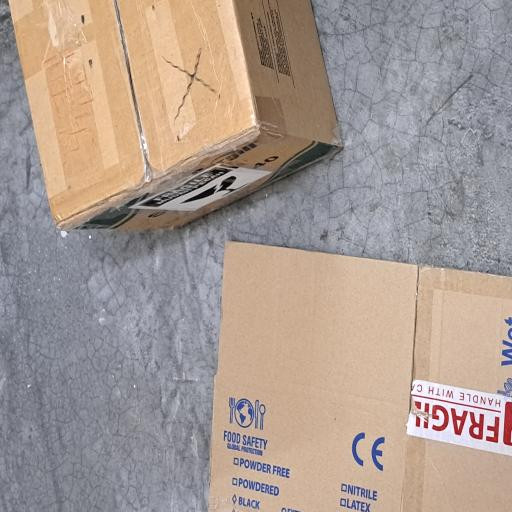cardboard: (206, 12, 384, 456), (0, 278, 202, 512)
